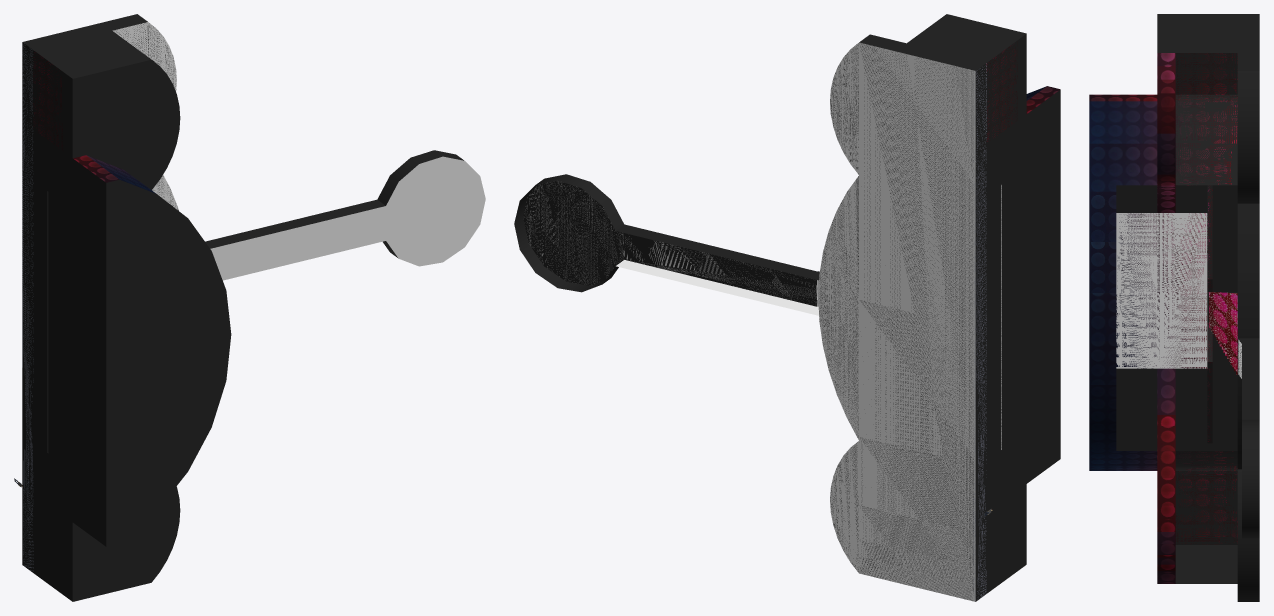
3 views of the same model, side by side, from view 1: azimuth 30°, elevation 25°; view 2: azimuth 150°, elevation 25°; view 3: azimuth 270°, elevation 25° (orthographic).
Parts seen in each view (by area): view 1: SketchUp (×7); view 2: SketchUp (×8); view 3: SketchUp (×7).
Boxes of the visible parts, x1,y1,x2,y2 form: SketchUp (×7): [22, 14, 485, 601]; SketchUp (×8): [514, 14, 1060, 601]; SketchUp (×7): [1089, 14, 1259, 601].
Bounding box in the file's own units: 2041 × 2204 × 640.
13 materials, 1 textured.
